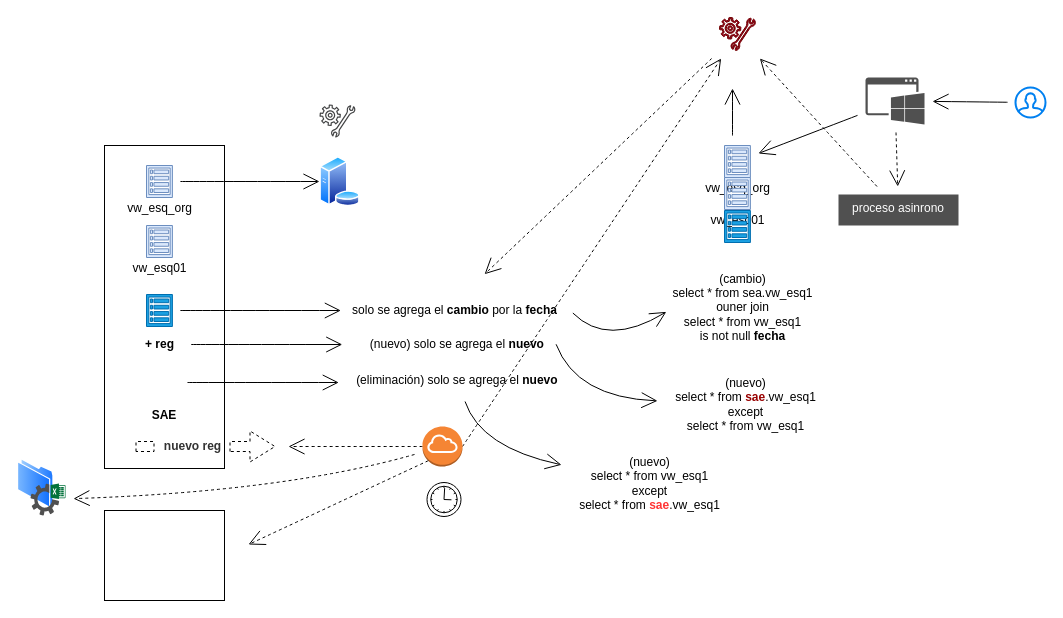
The diagram is 1063 pixels wide and 618 high, and some of its shapes have lost their labels. The centre of each missing label's shape, as x and y in pixels:
"Batch" goes at pixel 337 120.
"batch busqueda TEXT BUSQUEDA" goes at pixel 736 33.
"IB-METRO" goes at pixel 164 555.
